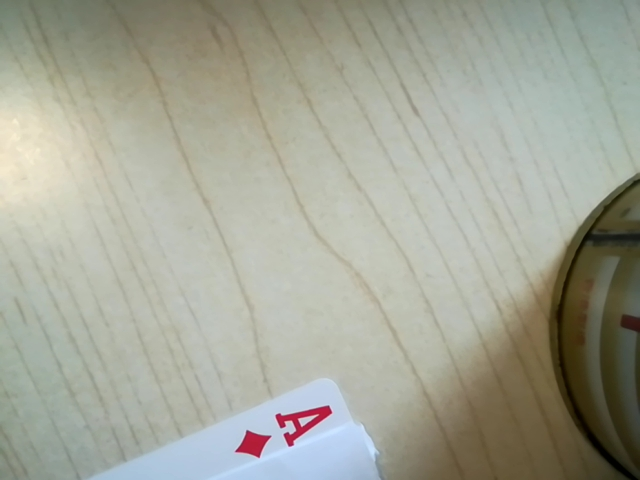fk a: (219, 400, 344, 462)
